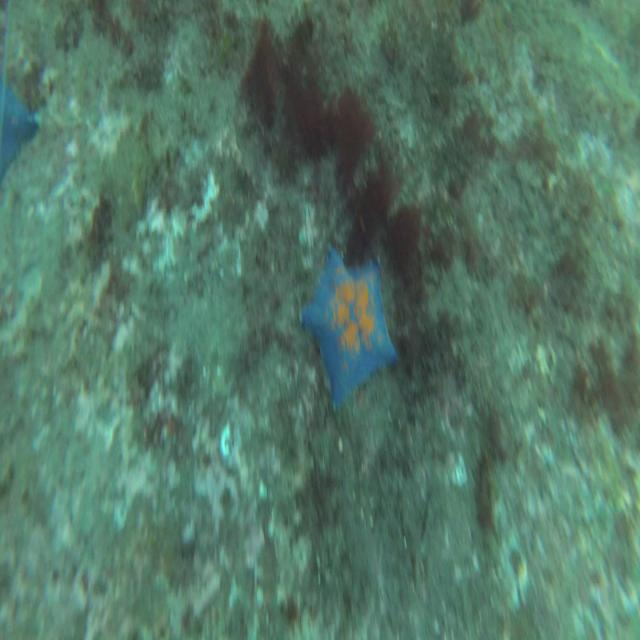starfish: (302, 250, 396, 406), (0, 76, 39, 188)
